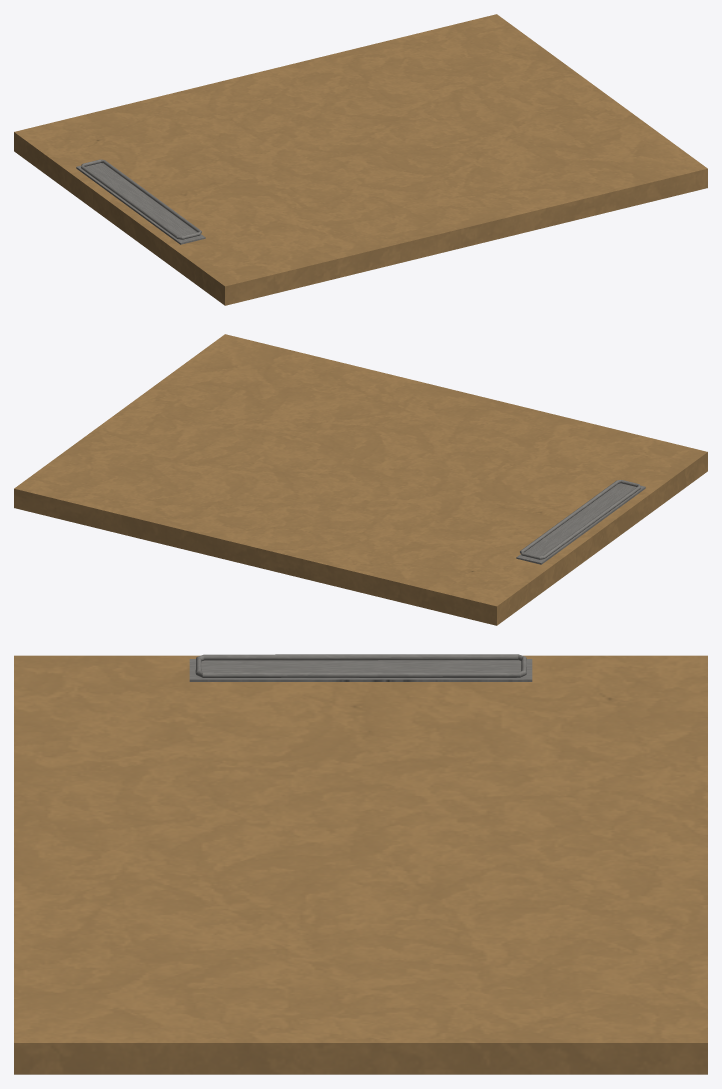
The model's file is Clipboard.fbx.
3 views of the same model, one above another, from view 1: azimuth 30°, elevation 25°; view 2: azimuth 150°, elevation 25°; view 3: azimuth 270°, elevation 25° (orthographic). The views are drawn at different scales.
Parts seen in each view (by area): view 1: Board, ClipBase, ClipBar; view 2: Board, ClipBase, ClipBar; view 3: Board, ClipBase, ClipBar.
Boxes of the visible parts, <box> form: Board: <box>14,14,707,305</box>; ClipBase: <box>76,163,205,244</box>; ClipBar: <box>81,159,201,239</box>; Board: <box>14,334,707,625</box>; ClipBase: <box>516,483,645,564</box>; ClipBar: <box>520,480,640,559</box>; Board: <box>14,655,707,1074</box>; ClipBase: <box>189,659,532,681</box>; ClipBar: <box>195,654,526,677</box>.
Bounding box in the file's own units: 307 × 15.34 × 233.
1 material, 1 textured.
